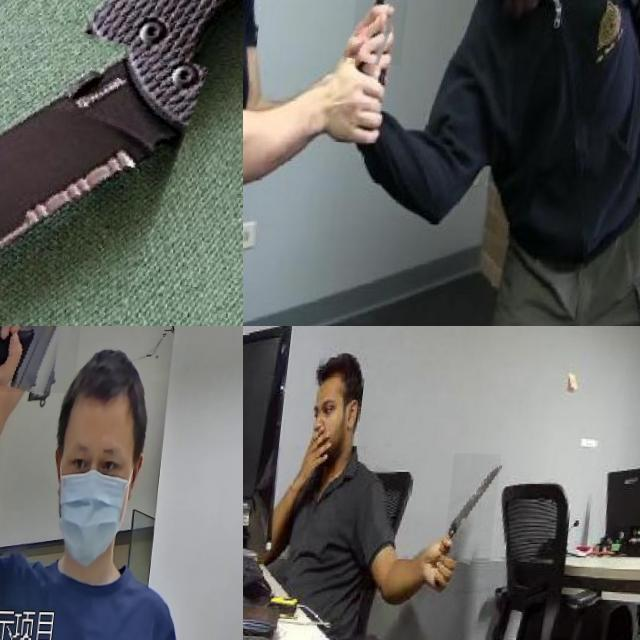-: (0, 0, 201, 326), (454, 452, 511, 562), (357, 0, 420, 63)
gun-knife-thesis - v11 Yolov5 augmented: (0, 326, 97, 414)
